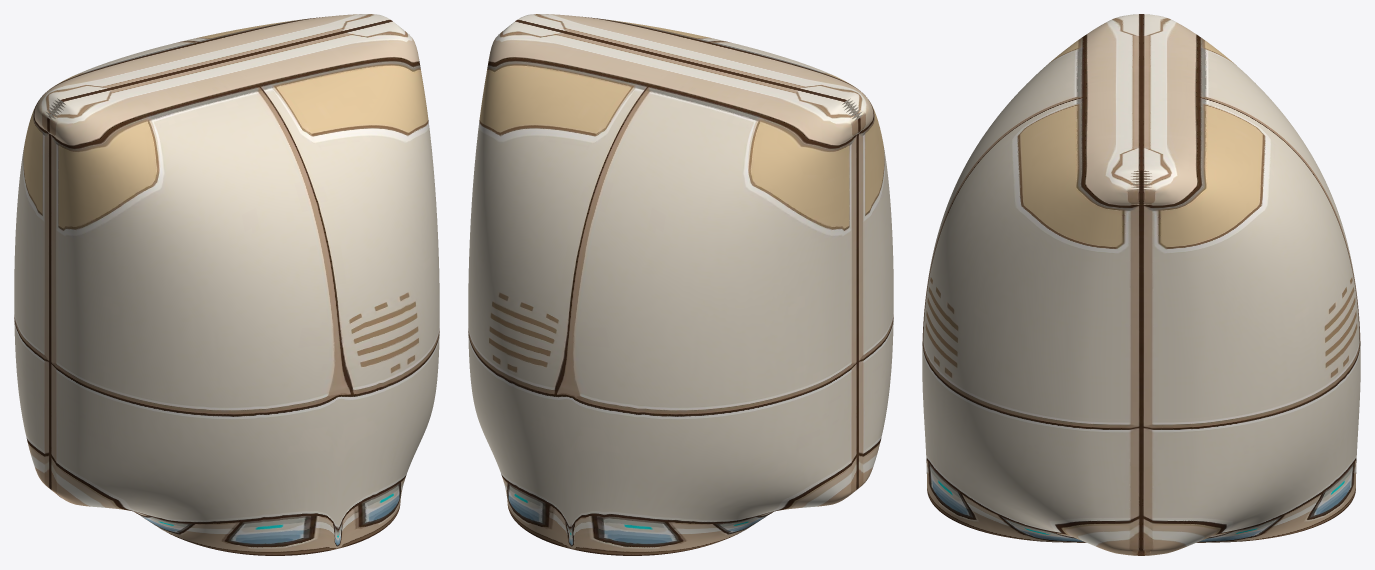
The model's file is wall_panel.glb.
The picture shows the model from 3 angles, left to right: view 1: azimuth 30°, elevation 25°; view 2: azimuth 150°, elevation 25°; view 3: azimuth 270°, elevation 25°; orthographic projection. The views are drawn at different scales.
Parts seen in each view (by area): view 1: wall_panel; view 2: wall_panel; view 3: wall_panel.
Boxes of the visible parts, x1,y1,x2,y2 form: wall_panel: (14, 14, 439, 555); wall_panel: (468, 14, 893, 555); wall_panel: (922, 14, 1360, 555).
Size of the model in its own units: 0.988 by 1.08 by 1.08.
Materials: 1 (1 with a texture image).
